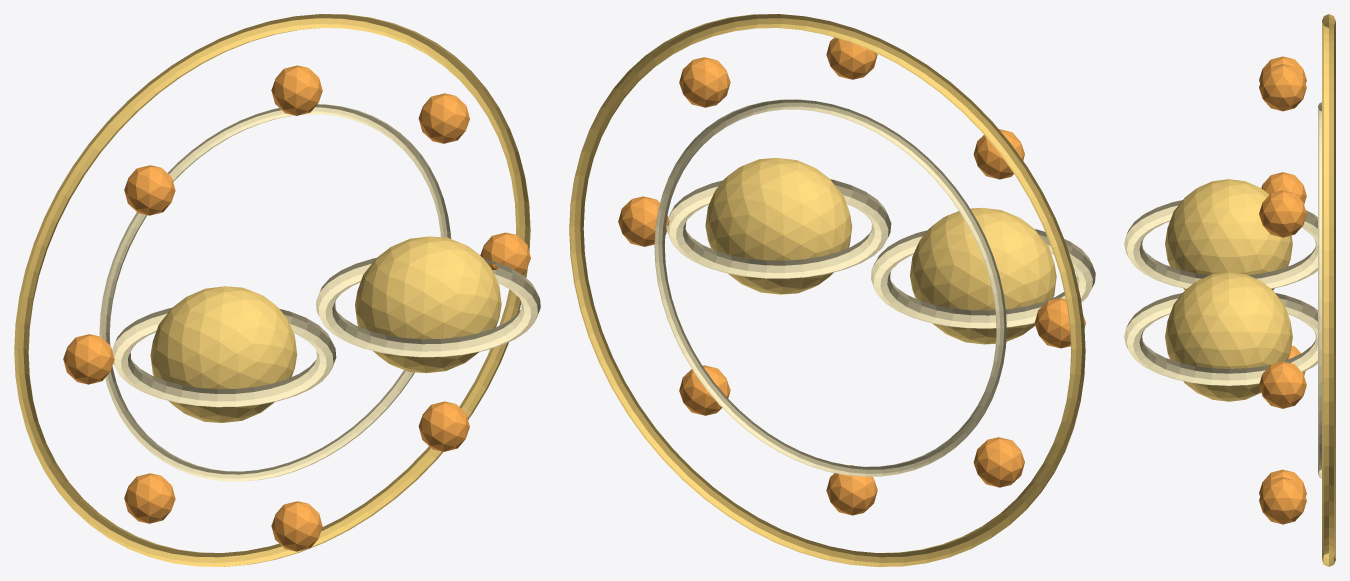
The picture shows the model from 3 angles, left to right: view 1: azimuth 30°, elevation 25°; view 2: azimuth 150°, elevation 25°; view 3: azimuth 270°, elevation 25°; orthographic projection. The views are drawn at different scales.
Visible parts, largest first — view 1: P_passive_outer, P_fist_0.55, P_fist_-0.55, P_passive_inner, P_fist_aura_-0.55, P_fist_aura_0.55, P_orbit_spark_1, P_orbit_spark_6, P_orbit_spark_3, P_orbit_spark_4, P_orbit_spark_2, P_orbit_spark_5 (+2 smaller); view 2: P_passive_outer, P_fist_0.55, P_passive_inner, P_fist_-0.55, P_fist_aura_0.55, P_fist_aura_-0.55, P_orbit_spark_5, P_orbit_spark_1, P_orbit_spark_6, P_orbit_spark_0, P_orbit_spark_2, P_orbit_spark_7 (+2 smaller); view 3: P_fist_0.55, P_fist_-0.55, P_passive_outer, P_fist_aura_0.55, P_fist_aura_-0.55, P_orbit_spark_0, P_orbit_spark_7, P_orbit_spark_1, P_orbit_spark_2, P_passive_inner, P_orbit_spark_4, P_orbit_spark_3 (+1 smaller).
Boxes of the visible parts, x1,y1,x2,y2 form: P_passive_outer: (14, 14, 530, 566); P_fist_0.55: (355, 236, 501, 373); P_fist_-0.55: (150, 286, 297, 422); P_passive_inner: (99, 104, 451, 481); P_fist_aura_-0.55: (112, 308, 336, 407); P_fist_aura_0.55: (316, 258, 540, 357); P_orbit_spark_1: (418, 93, 469, 143); P_orbit_spark_6: (271, 501, 322, 551); P_orbit_spark_3: (124, 165, 175, 215); P_orbit_spark_4: (63, 334, 114, 384); P_orbit_spark_2: (271, 65, 322, 115); P_orbit_spark_5: (124, 473, 175, 523); P_passive_outer: (569, 14, 1085, 566); P_fist_0.55: (705, 158, 852, 294); P_passive_inner: (654, 99, 1006, 476); P_fist_-0.55: (910, 207, 1056, 344); P_fist_aura_0.55: (666, 179, 891, 278); P_fist_aura_-0.55: (871, 229, 1095, 328); P_orbit_spark_5: (973, 437, 1024, 487); P_orbit_spark_1: (679, 57, 730, 107); P_orbit_spark_6: (826, 465, 877, 515); P_orbit_spark_0: (618, 196, 669, 246); P_orbit_spark_2: (826, 37, 877, 79); P_orbit_spark_7: (679, 365, 730, 415); P_fist_0.55: (1165, 272, 1292, 401); P_fist_-0.55: (1165, 179, 1292, 289); P_passive_outer: (1322, 14, 1335, 566); P_fist_aura_0.55: (1124, 293, 1317, 385); P_fist_aura_-0.55: (1124, 200, 1317, 288); P_orbit_spark_0: (1259, 361, 1306, 408); P_orbit_spark_7: (1259, 477, 1306, 524); P_orbit_spark_1: (1259, 190, 1306, 237); P_orbit_spark_2: (1259, 64, 1306, 111); P_passive_inner: (1318, 102, 1321, 478); P_orbit_spark_4: (1261, 172, 1306, 204); P_orbit_spark_3: (1259, 56, 1306, 83).
Size of the model in its own units: 2.77 by 2.77 by 1.06.
